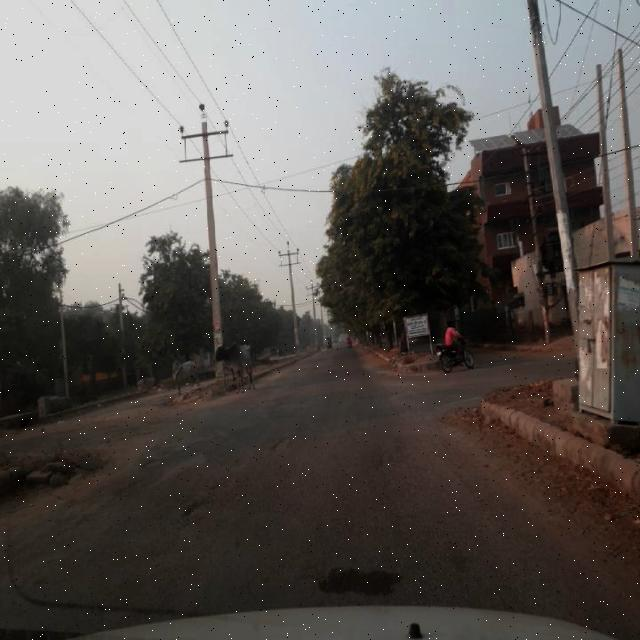D40: (141, 425, 223, 472), (177, 478, 224, 534), (256, 417, 303, 473)
